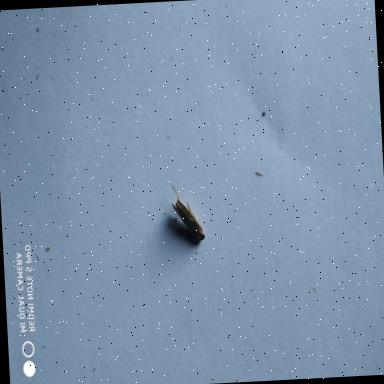pbw: (170, 182, 206, 241)
